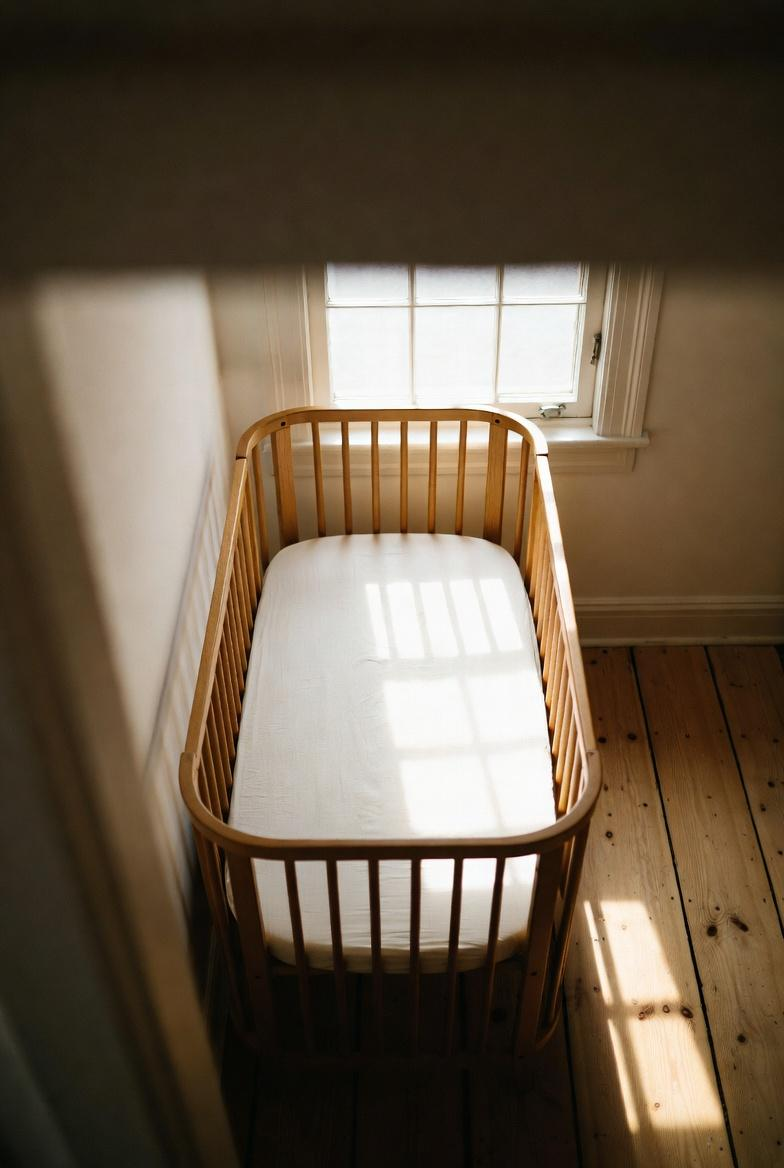crib: (180, 407, 600, 1079)
